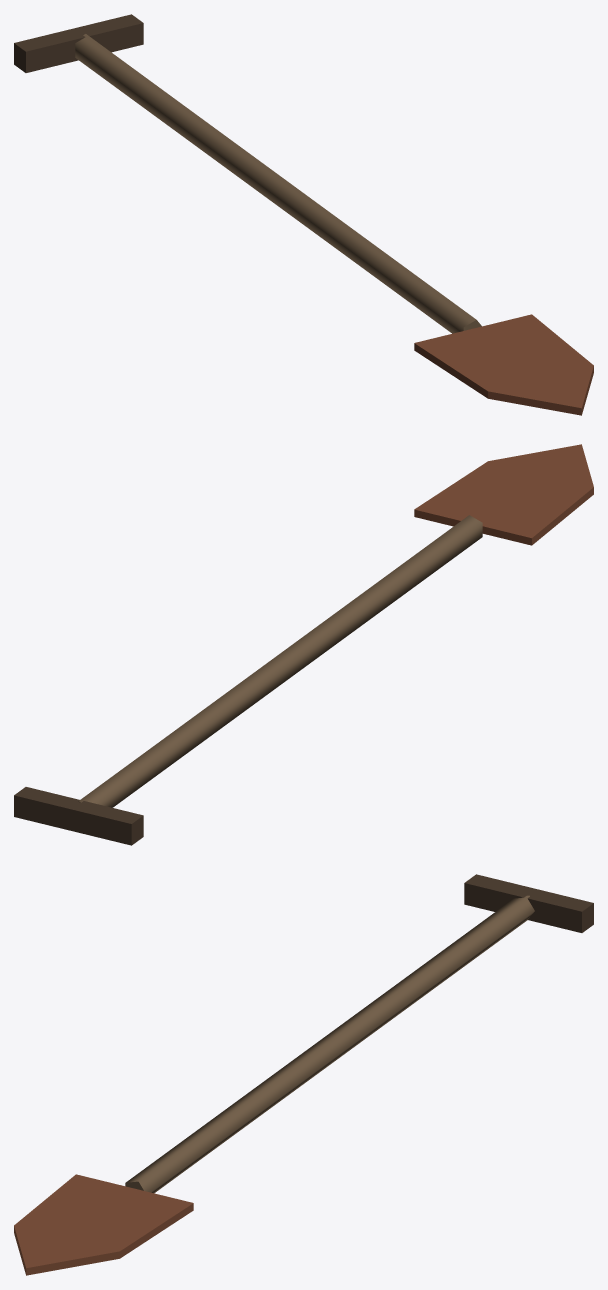
3 renders of one model, top to bottom at view 1: azimuth 30°, elevation 25°; view 2: azimuth 150°, elevation 25°; view 3: azimuth 330°, elevation 25°, orthographic.
Parts seen in each view (by area): view 1: raider_tool_shovel; view 2: raider_tool_shovel; view 3: raider_tool_shovel.
Boxes of the visible parts, x1=… form: raider_tool_shovel: x1=14, y1=14, x2=593, y2=415; raider_tool_shovel: x1=14, y1=444, x2=593, y2=845; raider_tool_shovel: x1=14, y1=874, x2=593, y2=1275.
Size of the model in its own units: 0.2 by 0.038 by 1.5.
